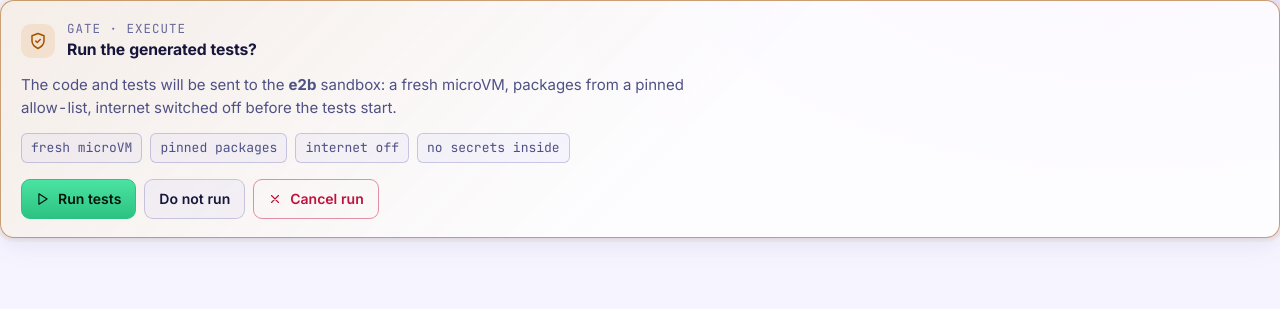
it: ApprovalPanel › shows the error and lets the user try again
Click the button "Run tests".
click(79, 199)  # box left=21, top=179, right=136, bottom=219
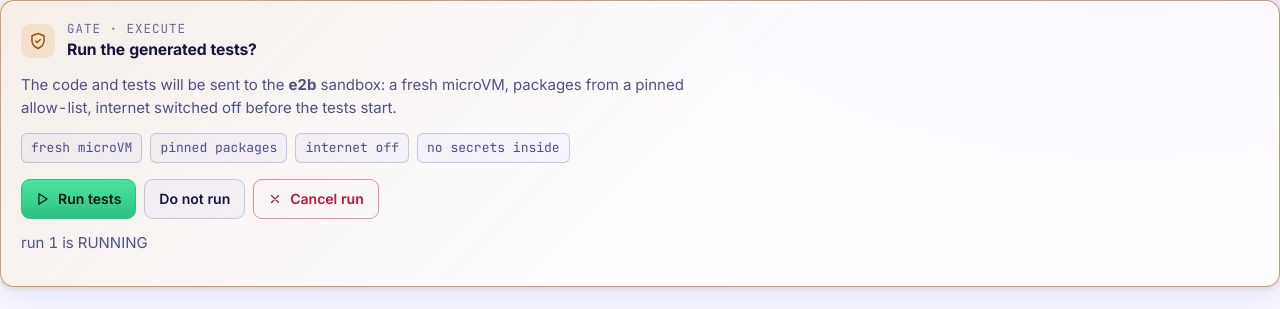
expect the message reads "run 1 is RUNNING": met, box left=21, top=233, right=148, bottom=252
